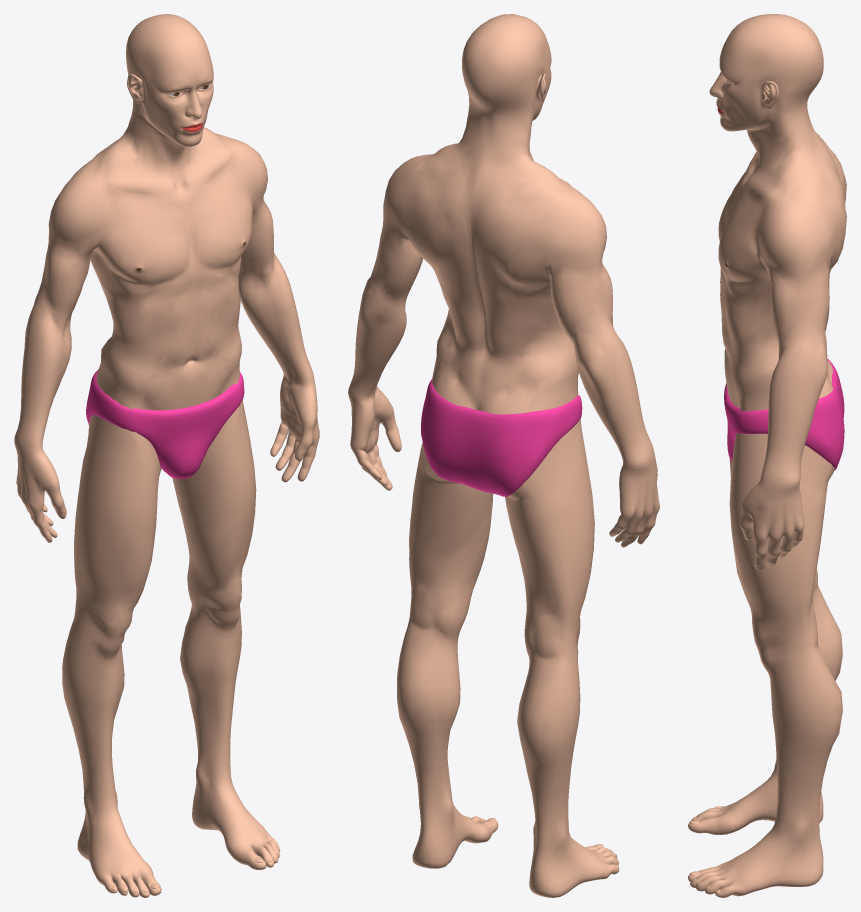
The model's file is Cuerpo.fbx.
3 views of the same model, side by side, from view 1: azimuth 30°, elevation 25°; view 2: azimuth 150°, elevation 25°; view 3: azimuth 270°, elevation 25° (orthographic). The views are drawn at different scales.
Visible parts, largest first — view 1: FreeF&M; view 2: FreeF&M; view 3: FreeF&M.
Part boxes in pixels (<box>): FreeF&M: <box>14,14,319,897</box>; FreeF&M: <box>348,14,659,897</box>; FreeF&M: <box>688,14,846,897</box>.
Bounding box in the file's own units: 326 × 891 × 153.
